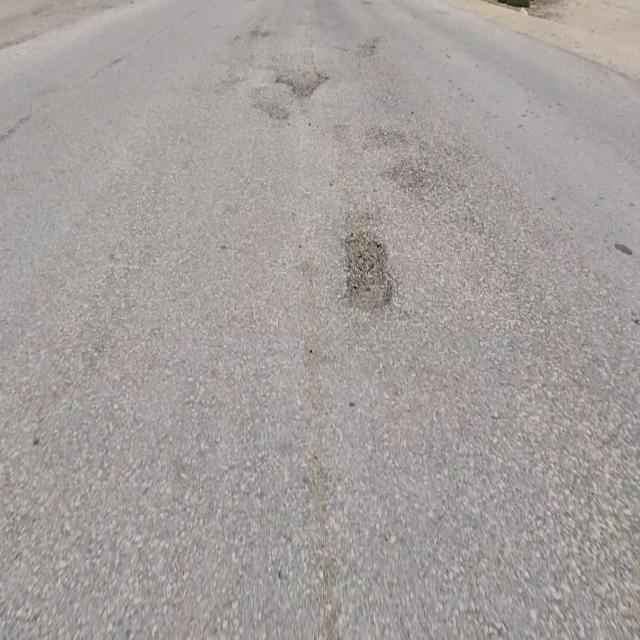Pothole: (346, 229, 393, 320), (275, 49, 330, 102)
